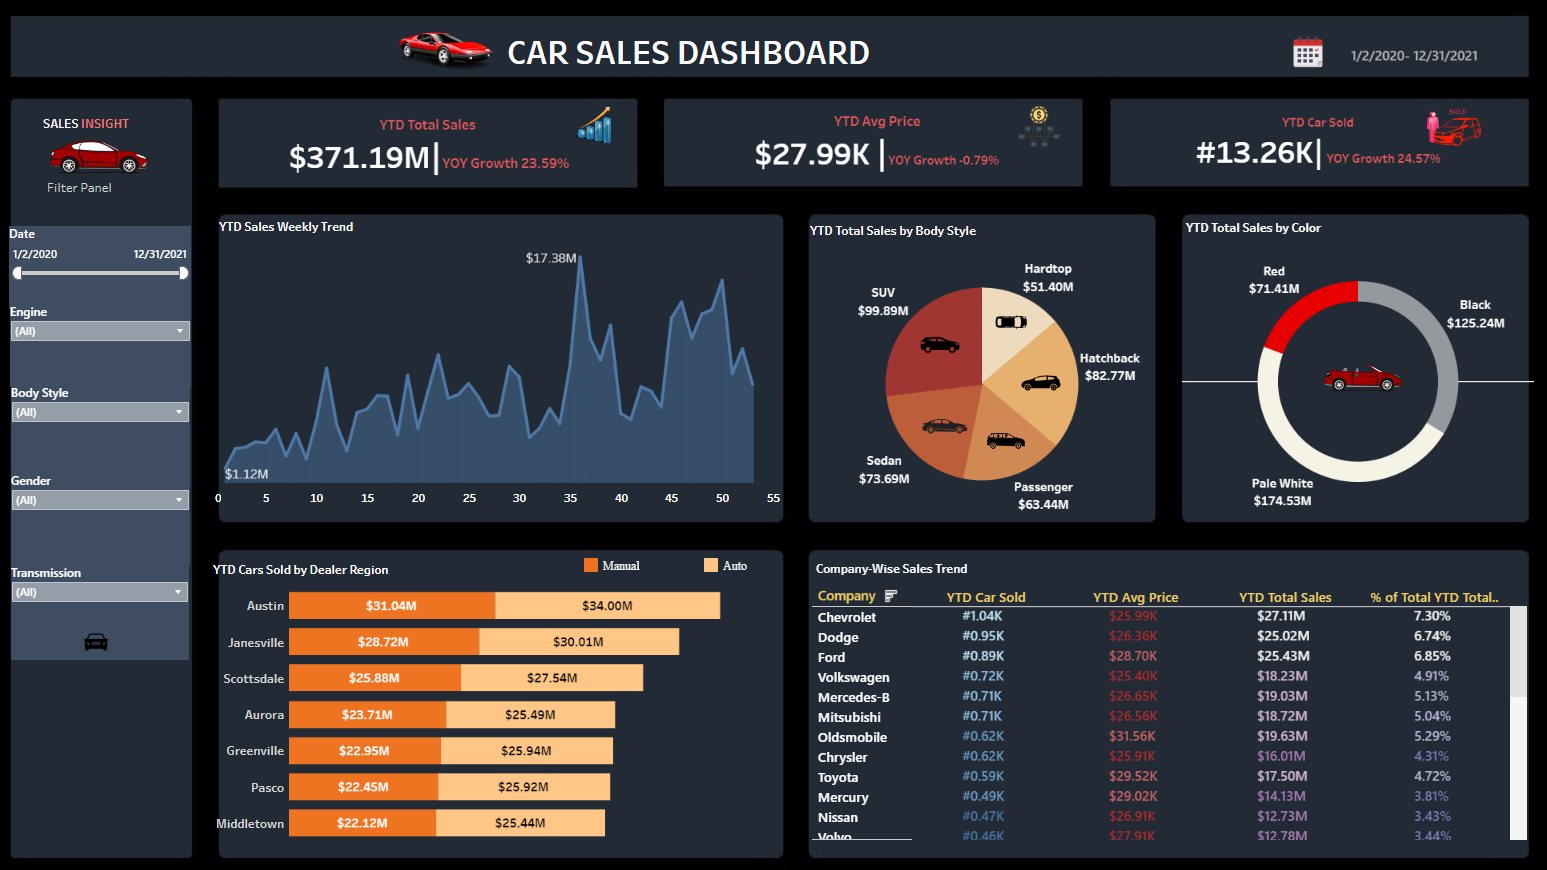

What the dashboard file says about the page in this screenshot:
{"tool":"tableau","page":{"name":"Dashboard 1","canvas":[1600,900],"ordinal":0},"visuals":[{"type":"image","param":"C:/Users/Admin/Downloads/Car Sales Background.jpg","box":[8,8,1584,884]},{"type":"image","param":"C:/Users/Admin/Downloads/154191.png","box":[368,17,215,95]},{"type":"worksheet","title":"Date Range","mark":"Automatic","box":[1346,42,212,54]},{"type":"text","box":[537,43,711,41]},{"type":"image","param":"C:/Users/Admin/Downloads/icone-de-voiture-symbole-png-rouge.png","box":[486,45,48,44]},{"type":"image","param":"C:/Users/Admin/Downloads/10691802.png","box":[1309,49,58,32]},{"type":"worksheet","title":"YTD Total Sales","mark":"Automatic","box":[245,108,423,101]},{"type":"worksheet","title":"YTD Avg Price","mark":"Automatic","box":[697,110,418,90]},{"type":"worksheet","title":"YTD Car Sold","mark":"Automatic","box":[1136,110,423,89]},{"type":"image","param":"C:/Users/Admin/Downloads/pngtree-red-sports-car-png-image_6556469.png","box":[57,113,144,113]},{"type":"image","param":"C:/Users/Admin/Downloads/pngtree-the-car-is-sold-simple-shadow-cartoon-vector-pn","box":[1429,114,110,61]},{"type":"image","param":"C:/Users/Admin/Downloads/sales-icon-12.png","box":[592,118,59,39]},{"type":"image","param":"C:/Users/Admin/Downloads/2386694 (1).png","box":[1031,118,75,42]},{"type":"text","box":[73,121,114,30]},{"type":"text","box":[77,185,100,30]},{"type":"worksheet","title":"YTD Sales Weekly Trend","mark":"Area","rows":["Calculation_1133218283902836736","Calculation_1133218283902836736"],"cols":["Date"],"box":[245,224,568,302]},{"type":"worksheet","title":"YTD Total Sales by Color","mark":"Pie","rows":["Calculation_1133218283925532682","Calculation_1133218283925622796"],"box":[1212,225,352,306]},{"type":"worksheet","title":"YTD Total Sales by Body Style","mark":"Pie","box":[836,228,352,305]},{"type":"filter","title":"YTD Sales Weekly Trend","param":"[federated.0h7col60udgpd016p0iew0obskpp].[none:Date:qk]","box":[39,239,182,83]},{"type":"filter","title":"YTD Sales Weekly Trend","param":"[federated.0h7col60udgpd016p0iew0obskpp].[none:Engine:nk]","box":[40,317,181,83]},{"type":"image","param":"C:/Users/Admin/Downloads/20350-200.png","box":[1014,318,53,34]},{"type":"image","param":"C:/Users/Admin/Downloads/1309611-200.png","box":[936,337,68,42]},{"type":"image","param":"C:/Users/Admin/Downloads/pngtree-red-sports-car-png-image_6583642.png","box":[1229,342,328,98]},{"type":"image","param":"C:/Users/Admin/Downloads/55308.png","box":[1035,376,72,39]},{"type":"filter","title":"YTD Sales Weekly Trend","param":"[federated.0h7col60udgpd016p0iew0obskpp].[none:Body Style:nk]","box":[41,398,179,89]},{"type":"image","param":"C:/Users/Admin/Downloads/sedan-icon-2.jpg","box":[948,420,53,38]},{"type":"image","param":"C:/Users/Admin/Downloads/6636077.png","box":[996,435,80,38]},{"type":"filter","title":"YTD Sales Weekly Trend","param":"[federated.0h7col60udgpd016p0iew0obskpp].[none:Gender:nk]","box":[41,486,179,93]},{"type":"worksheet","title":"Company-Wise Sales Trend","mark":"Automatic","rows":["Company"],"box":[842,566,716,287]},{"type":"worksheet","title":"YTD Cars Sold by Dealer Region","mark":"Automatic","rows":["Dealer_Region"],"cols":["Calculation_1133218283902836736"],"box":[239,567,533,287]},{"type":"legend","title":"YTD Cars Sold by Dealer Region","param":"[federated.0h7col60udgpd016p0iew0obskpp].[none:Transmission:nk]","box":[611,568,255,34]},{"type":"filter","title":"YTD Sales Weekly Trend","param":"[federated.0h7col60udgpd016p0iew0obskpp].[none:Transmission:nk]","box":[41,578,178,95]},{"type":"image","param":"C:/Users/Admin/Downloads/921121.png","box":[111,643,30,24]}]}

Visuals, with their boxes in screenshot pixels (x1, y1, x2, y2), scaled from the page's 1600x900 canvas onto the 1547x870 screenshot:
image: box=[8, 8, 1539, 862]
image: box=[356, 16, 564, 108]
"Date Range" worksheet: box=[1301, 41, 1506, 93]
text: box=[519, 42, 1207, 81]
image: box=[470, 44, 516, 86]
image: box=[1266, 47, 1322, 78]
"YTD Total Sales" worksheet: box=[237, 104, 646, 202]
"YTD Avg Price" worksheet: box=[674, 106, 1078, 193]
"YTD Car Sold" worksheet: box=[1098, 106, 1507, 192]
image: box=[55, 109, 194, 218]
image: box=[1382, 110, 1488, 169]
image: box=[572, 114, 629, 152]
image: box=[997, 114, 1069, 155]
text: box=[71, 117, 181, 146]
text: box=[74, 179, 171, 208]
"YTD Sales Weekly Trend" worksheet (Area marks): box=[237, 217, 786, 508]
"YTD Total Sales by Color" worksheet (Pie marks): box=[1172, 218, 1512, 513]
"YTD Total Sales by Body Style" worksheet (Pie marks): box=[808, 220, 1149, 515]
"YTD Sales Weekly Trend" filter: box=[38, 231, 214, 311]
"YTD Sales Weekly Trend" filter: box=[39, 306, 214, 387]
image: box=[980, 307, 1032, 340]
image: box=[905, 326, 971, 366]
image: box=[1188, 331, 1505, 425]
image: box=[1001, 363, 1070, 401]
"YTD Sales Weekly Trend" filter: box=[40, 385, 213, 471]
image: box=[917, 406, 968, 443]
image: box=[963, 420, 1040, 457]
"YTD Sales Weekly Trend" filter: box=[40, 470, 213, 560]
"Company-Wise Sales Trend" worksheet: box=[814, 547, 1506, 825]
"YTD Cars Sold by Dealer Region" worksheet: box=[231, 548, 746, 826]
"YTD Cars Sold by Dealer Region" legend: box=[591, 549, 837, 582]
"YTD Sales Weekly Trend" filter: box=[40, 559, 212, 651]
image: box=[107, 622, 136, 645]
